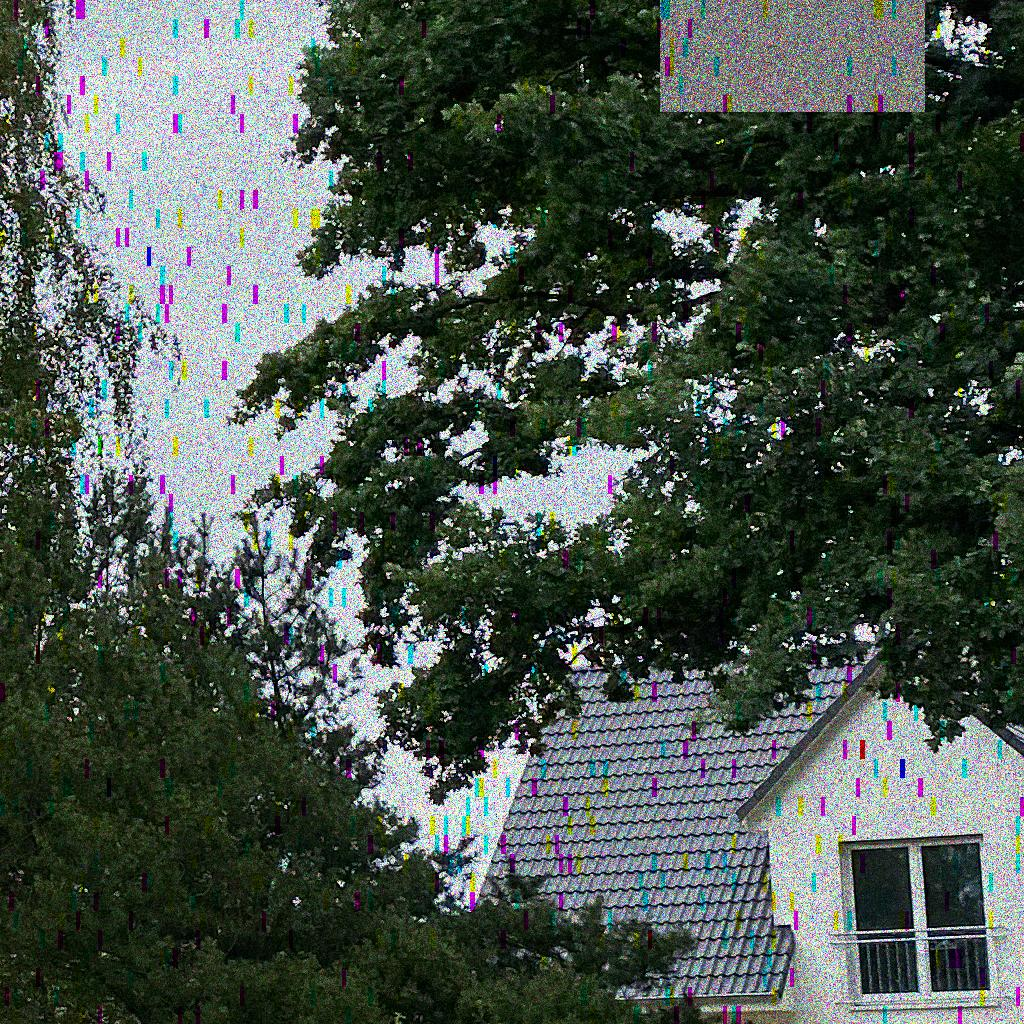tree: (1, 1, 735, 1023), (223, 1, 1024, 807)
